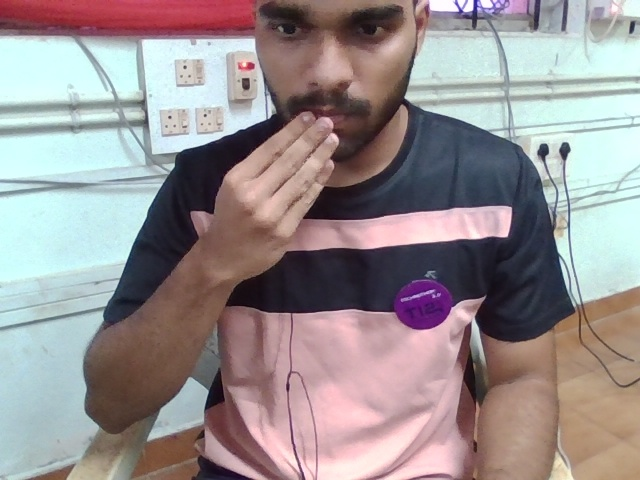eat: (191, 96, 389, 300)
